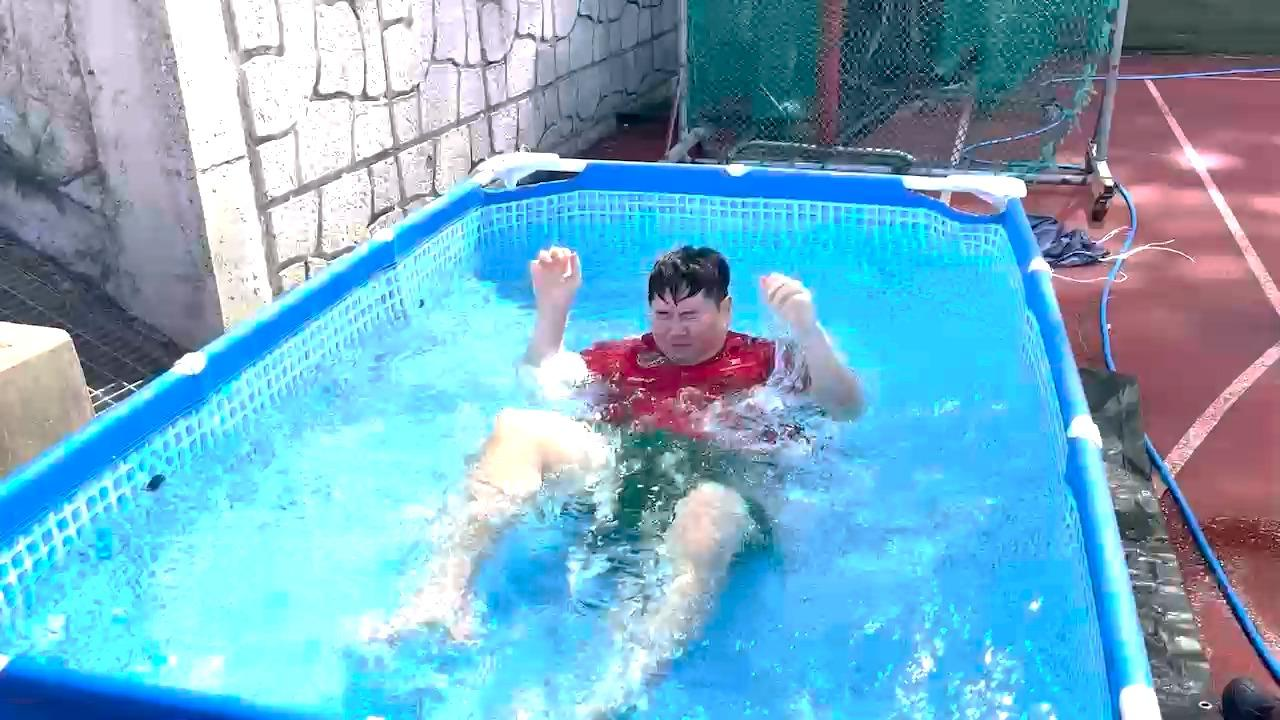Drowning: (416, 169, 864, 709)
